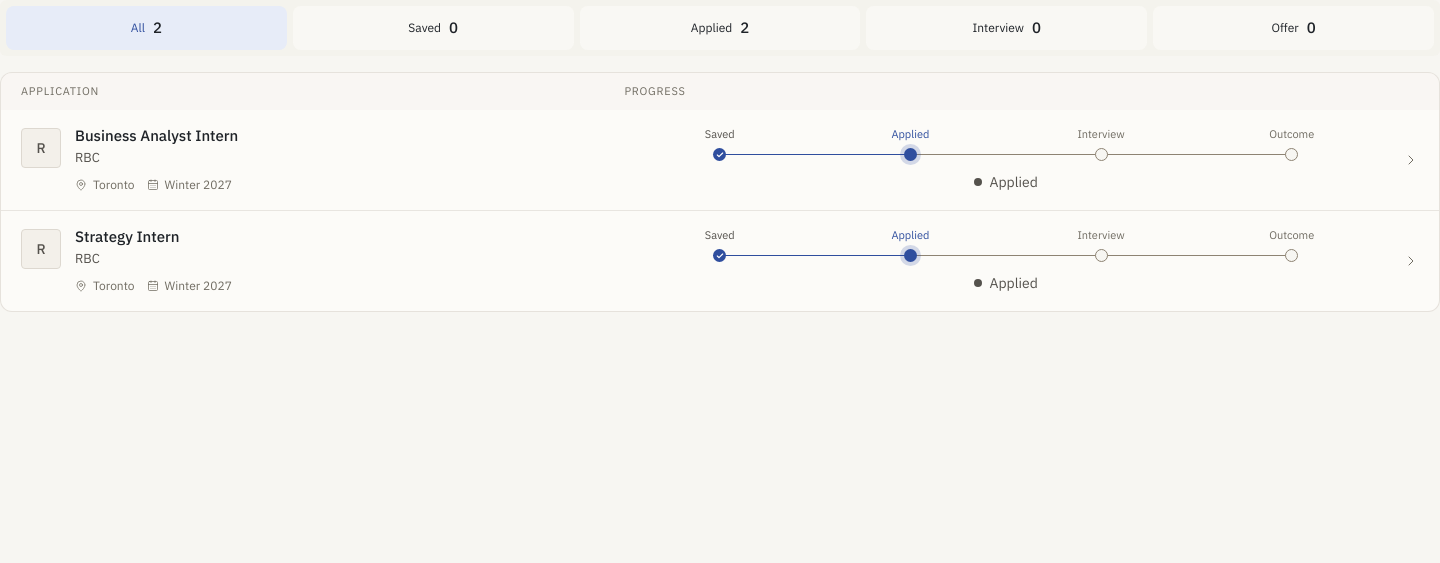
Test case: the desktop selected-record workspace › updates the one preview and resets its internal scroll position
Step 1. Click the link "Business Analyst Intern" → (720, 160), box [1,110,1439,210]
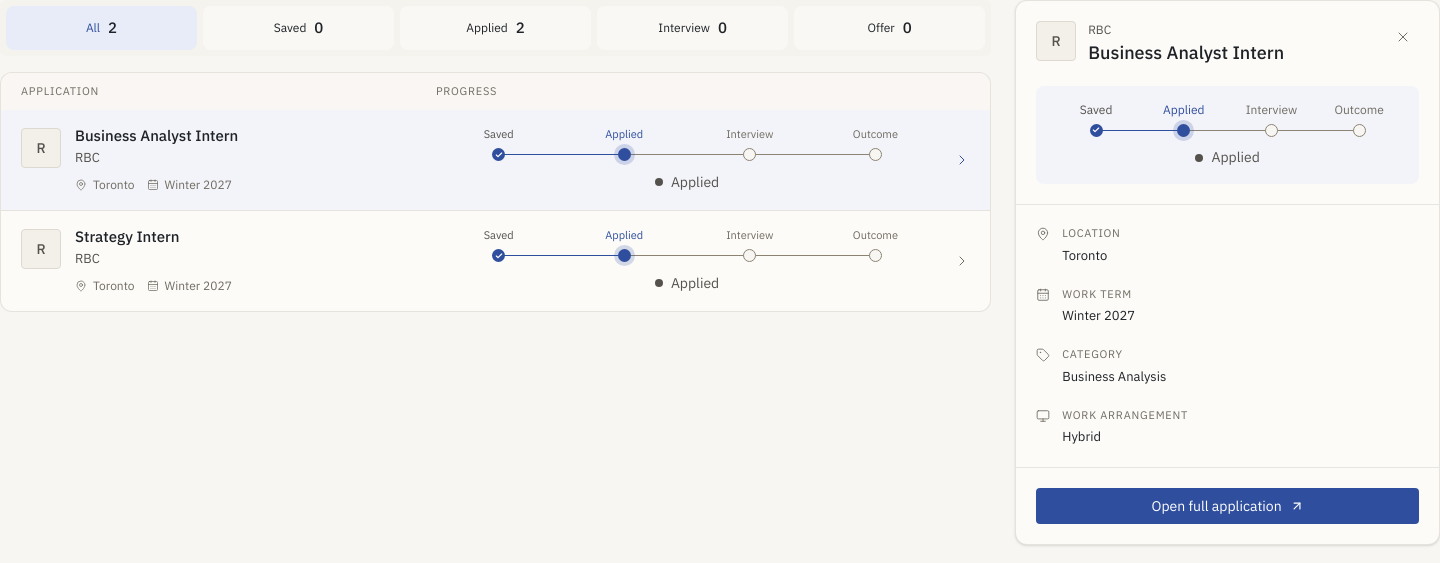
Step 2. Click the link "Strategy Intern" → (496, 261), box [1,211,990,311]
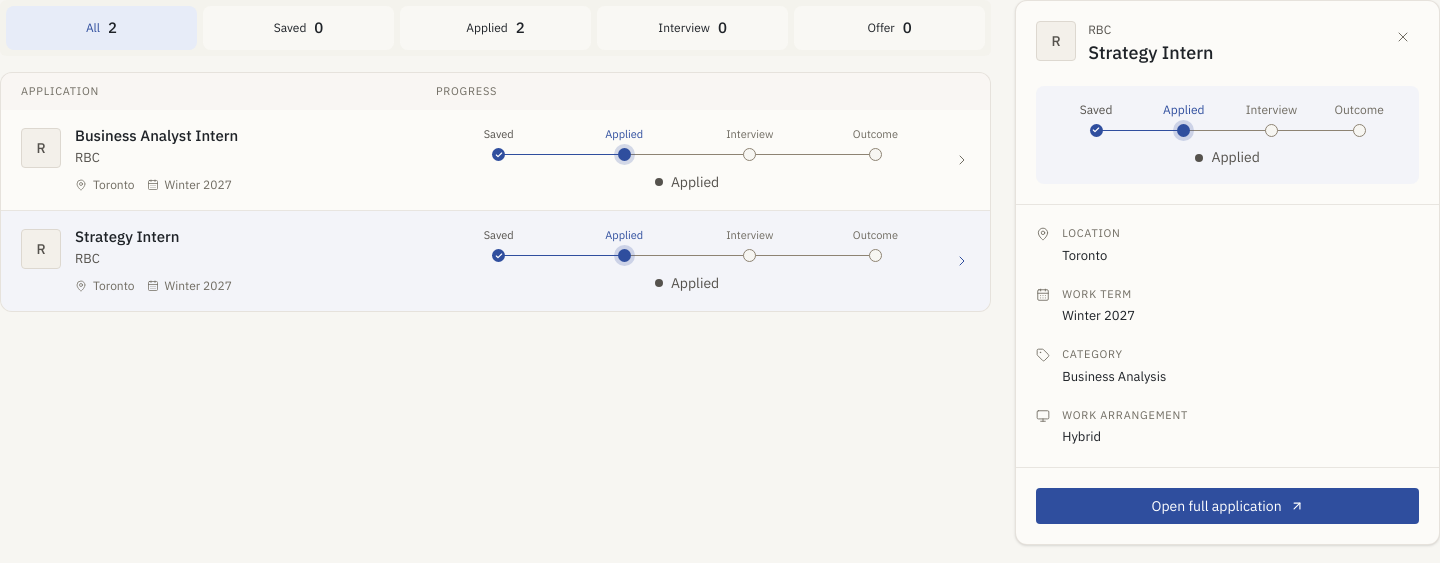
Now the 1st heading "Strategy Intern" is shown, box [1088,41,1214,64]
